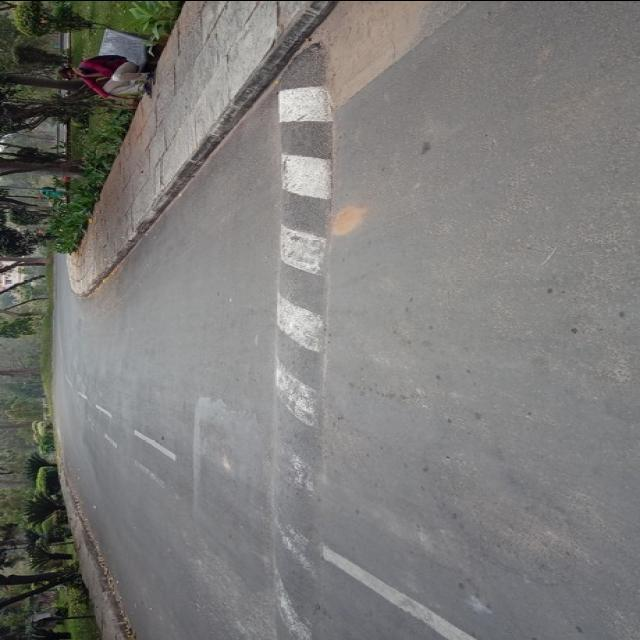speedbreaker: (230, 81, 358, 640)
